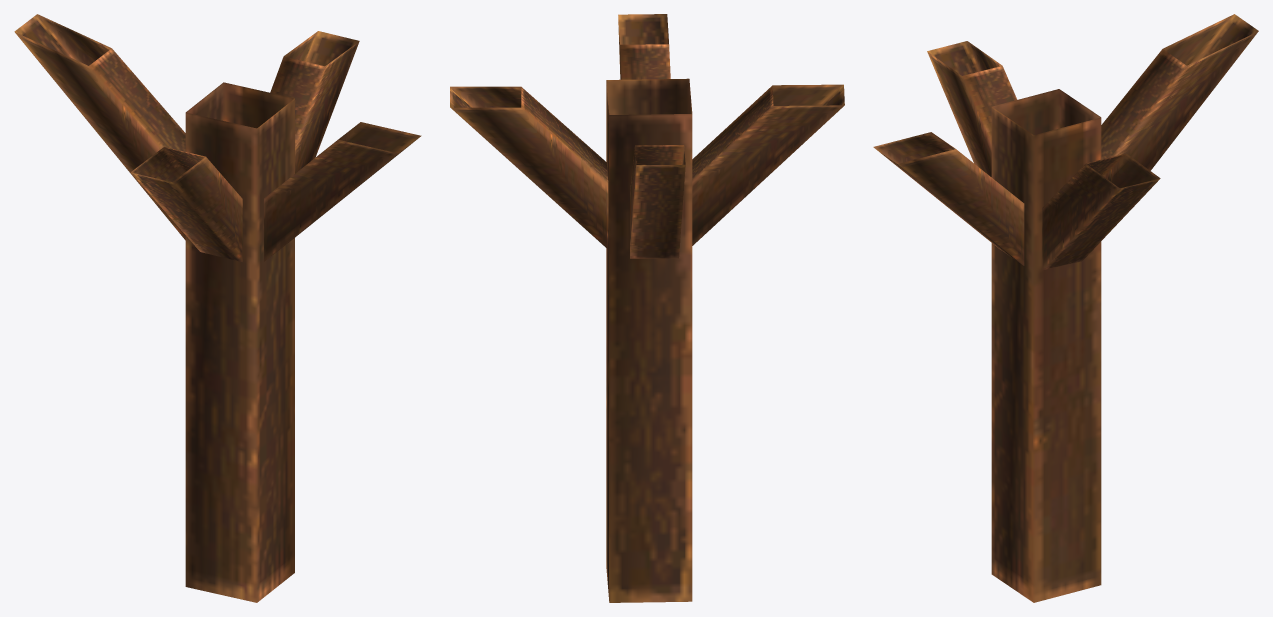
Rendered from SWORDLIGHT20_JAILPLATSUPPORT35.fbx.
The picture shows the model from 3 angles, left to right: view 1: azimuth 30°, elevation 25°; view 2: azimuth 150°, elevation 25°; view 3: azimuth 270°, elevation 25°; orthographic projection. The views are drawn at different scales.
Parts seen in each view (by area): view 1: SWORDLIGHT20_JAILPLATSUPPORT35; view 2: SWORDLIGHT20_JAILPLATSUPPORT35; view 3: SWORDLIGHT20_JAILPLATSUPPORT35.
Boxes of the visible parts, x1,y1,x2,y2 form: SWORDLIGHT20_JAILPLATSUPPORT35: (14, 14, 421, 602); SWORDLIGHT20_JAILPLATSUPPORT35: (450, 14, 844, 602); SWORDLIGHT20_JAILPLATSUPPORT35: (873, 14, 1258, 602).
Size of the model in its own units: 17521 by 27863 by 19376.
1 material, 1 textured.
